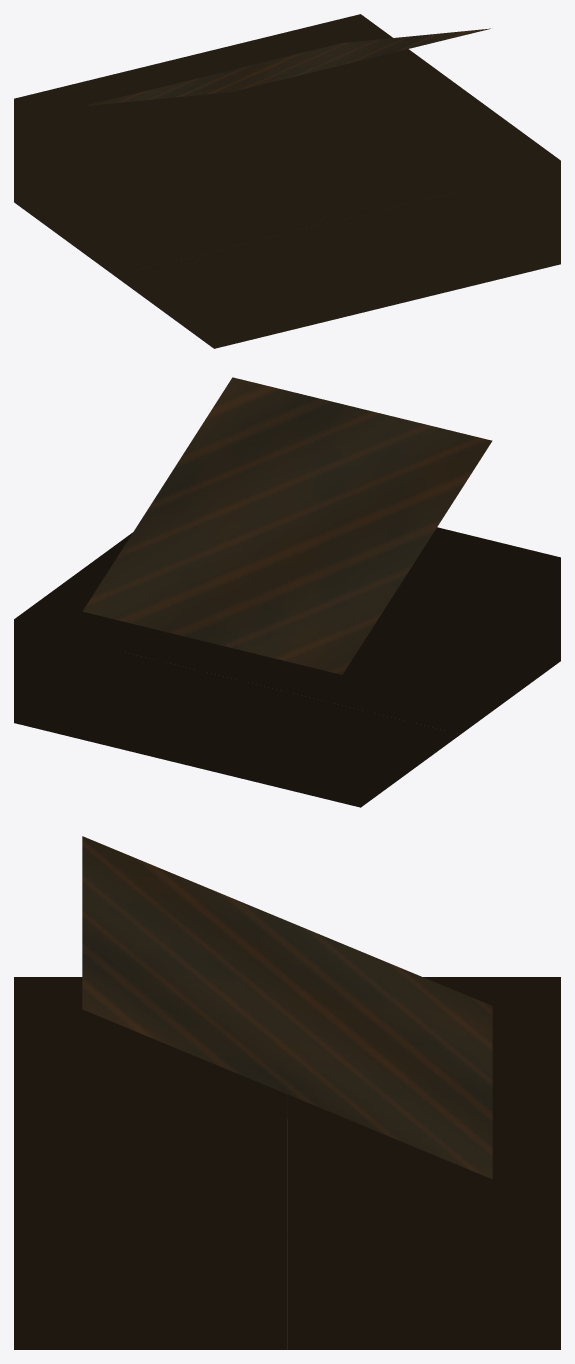
Rendered from trap_t4_buried_mine.glb.
The picture shows the model from 3 angles, top to bottom: view 1: azimuth 30°, elevation 25°; view 2: azimuth 150°, elevation 25°; view 3: azimuth 270°, elevation 25°; orthographic projection. The views are drawn at different scales.
Parts seen in each view (by area): view 1: trap_t4_buried_mine; view 2: trap_t4_buried_mine; view 3: trap_t4_buried_mine.
Boxes of the visible parts, bbox=[...] form: trap_t4_buried_mine: bbox=[14, 14, 560, 348]; trap_t4_buried_mine: bbox=[14, 377, 560, 807]; trap_t4_buried_mine: bbox=[14, 836, 560, 1349].
Bounding box in the file's own units: 0.28 × 0.176 × 0.28.
Materials: 1 (1 with a texture image).
